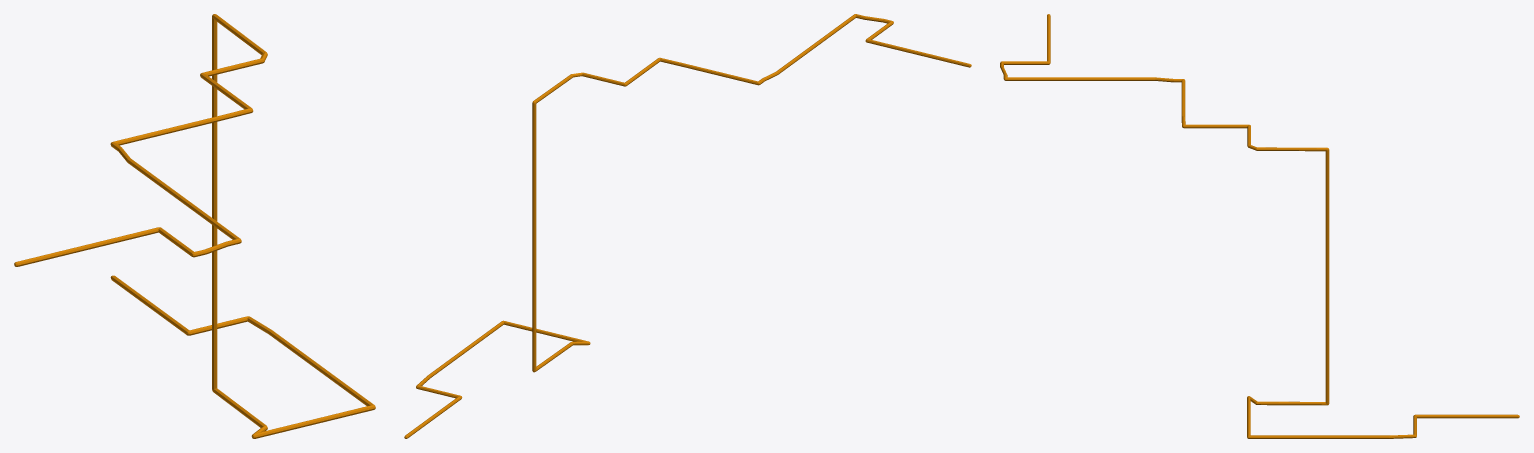
The picture shows the model from 3 angles, left to right: view 1: azimuth 30°, elevation 25°; view 2: azimuth 150°, elevation 25°; view 3: azimuth 270°, elevation 25°; orthographic projection. The views are drawn at different scales.
Size of the model in its own units: 2137 by 1520 by 2780.
